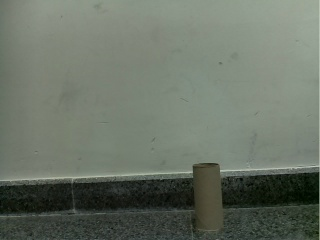rollo papel: (192, 163, 222, 230)
